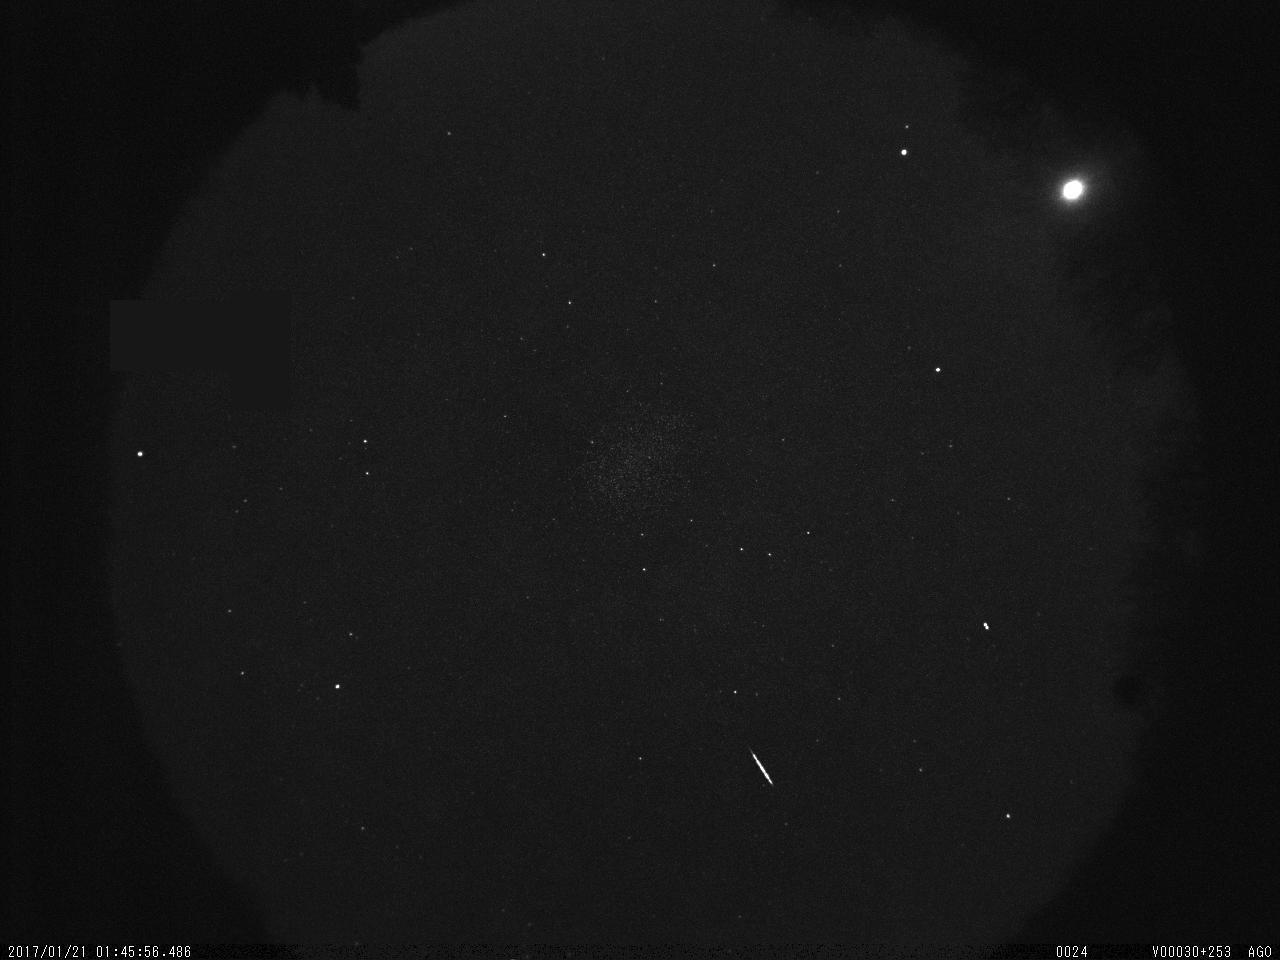meteor: (729, 738, 791, 796)
